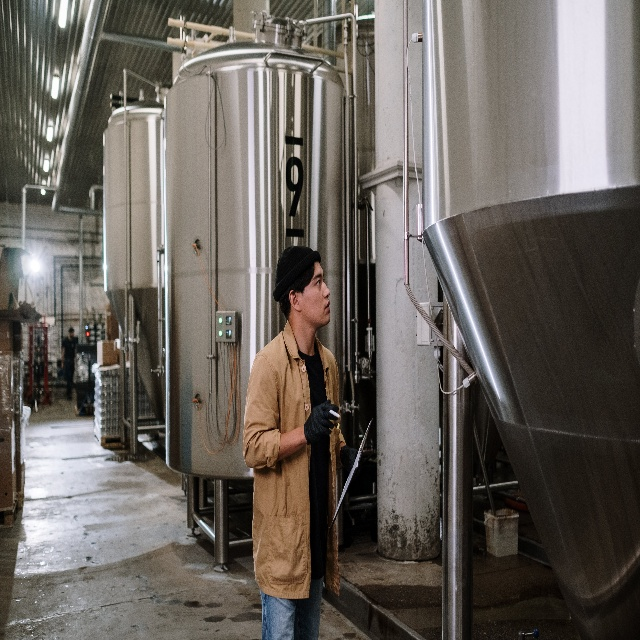Guantes: (304, 398, 339, 445), (340, 443, 362, 479)
